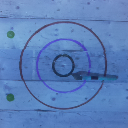Axe Tip: (72, 72, 80, 75)
